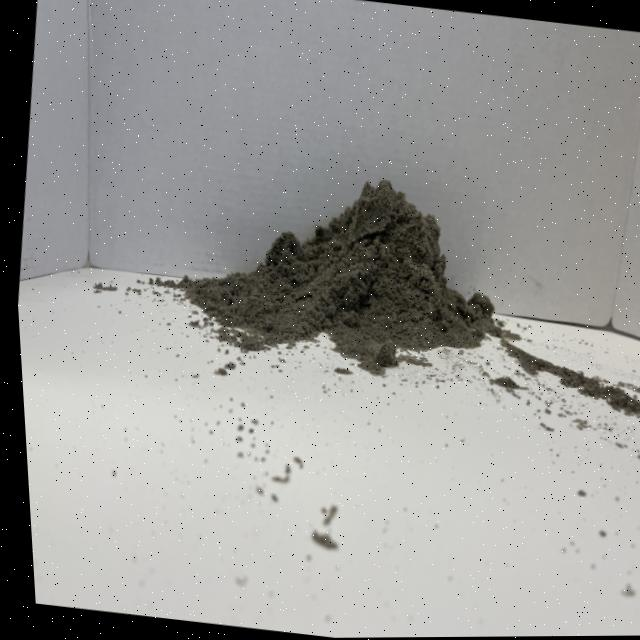sand: (148, 139, 532, 394)
